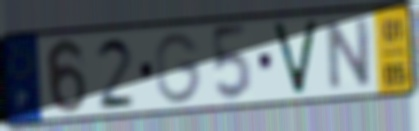2: (93, 35, 137, 109)
5: (209, 20, 255, 106)
6: (44, 36, 89, 117)
G: (152, 31, 203, 106)
N: (325, 15, 373, 93)
V: (268, 17, 322, 98)
